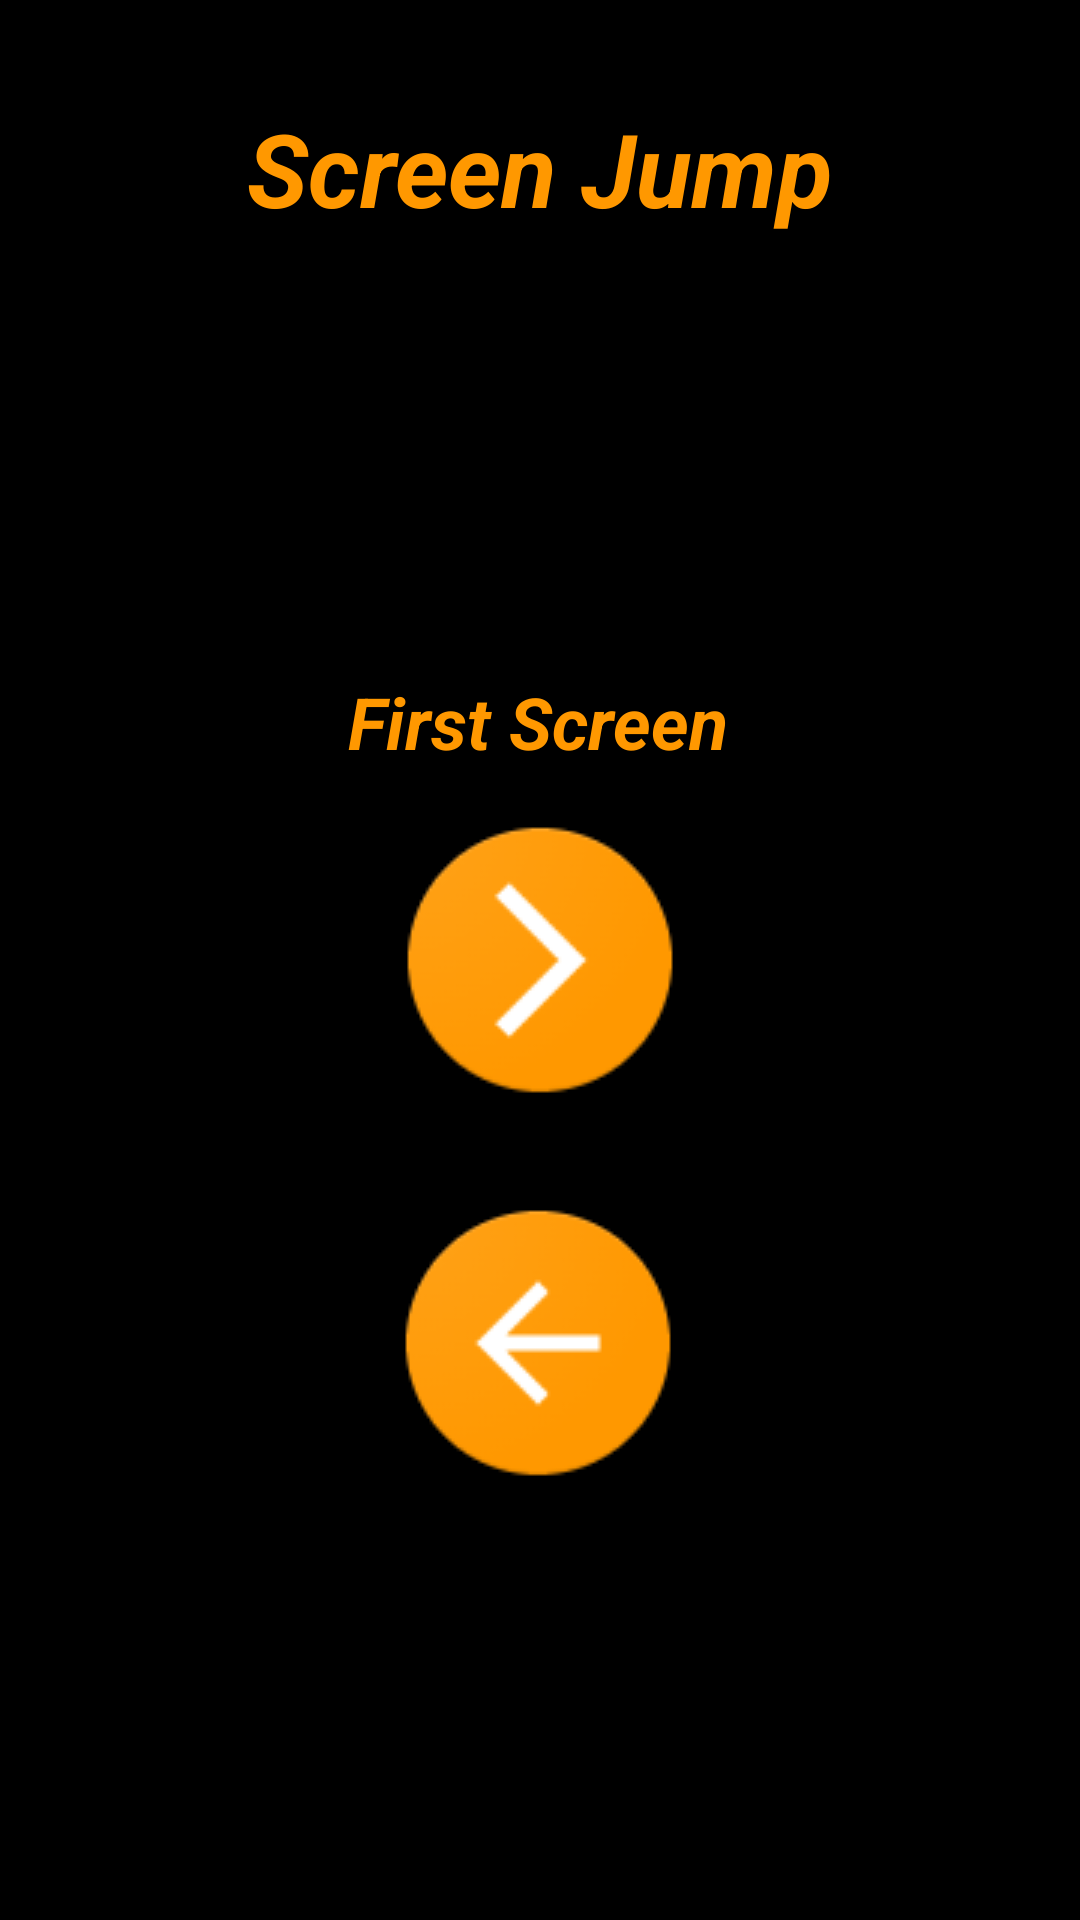

Icon click points for this 1080x1920 phone screenshot, format (x,y):
arr: (540,960)
ret: (538,1343)
